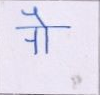au_matra: (29, 8, 54, 48)
